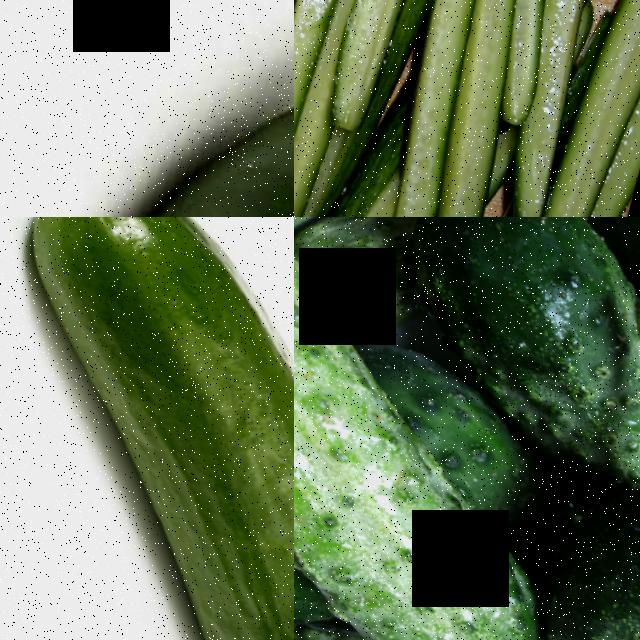cucumber: (0, 217, 294, 640), (294, 389, 585, 640), (37, 0, 294, 217), (387, 217, 640, 422), (510, 0, 640, 217), (509, 443, 640, 640), (294, 0, 404, 217)
